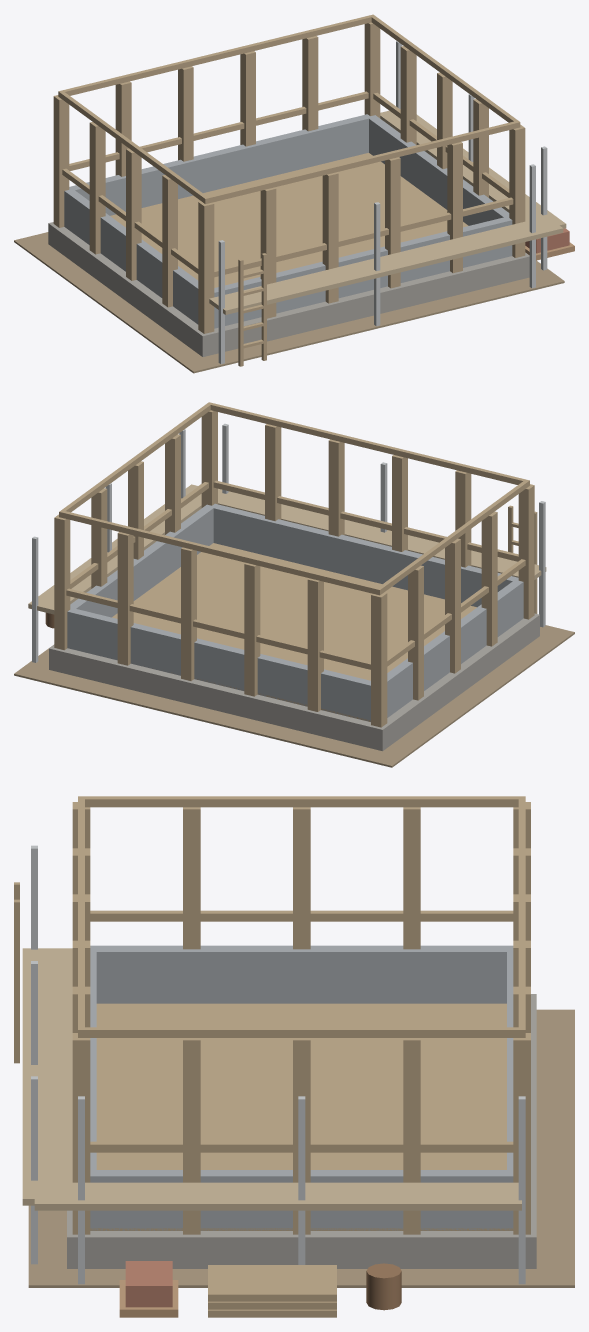
The model's file is garage_site_5.glb.
3 renders of one model, top to bottom at view 1: azimuth 30°, elevation 25°; view 2: azimuth 150°, elevation 25°; view 3: azimuth 270°, elevation 25°, orthographic. The views are drawn at different scales.
Visible parts, largest first — view 1: body; view 2: body; view 3: body.
Boxes of the visible parts, left/top/right/bottom form: body: left=14, top=14, right=574, bottom=373; body: left=14, top=402, right=574, bottom=767; body: left=14, top=796, right=574, bottom=1317.
Size of the model in its own units: 2.46 by 0.89 by 1.91.
